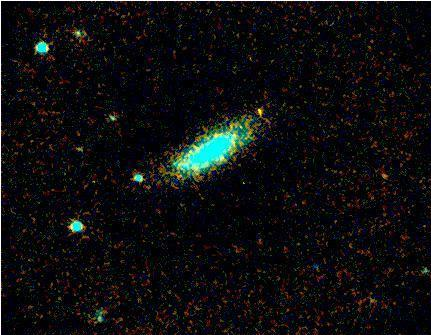star: (369, 161, 399, 191)
